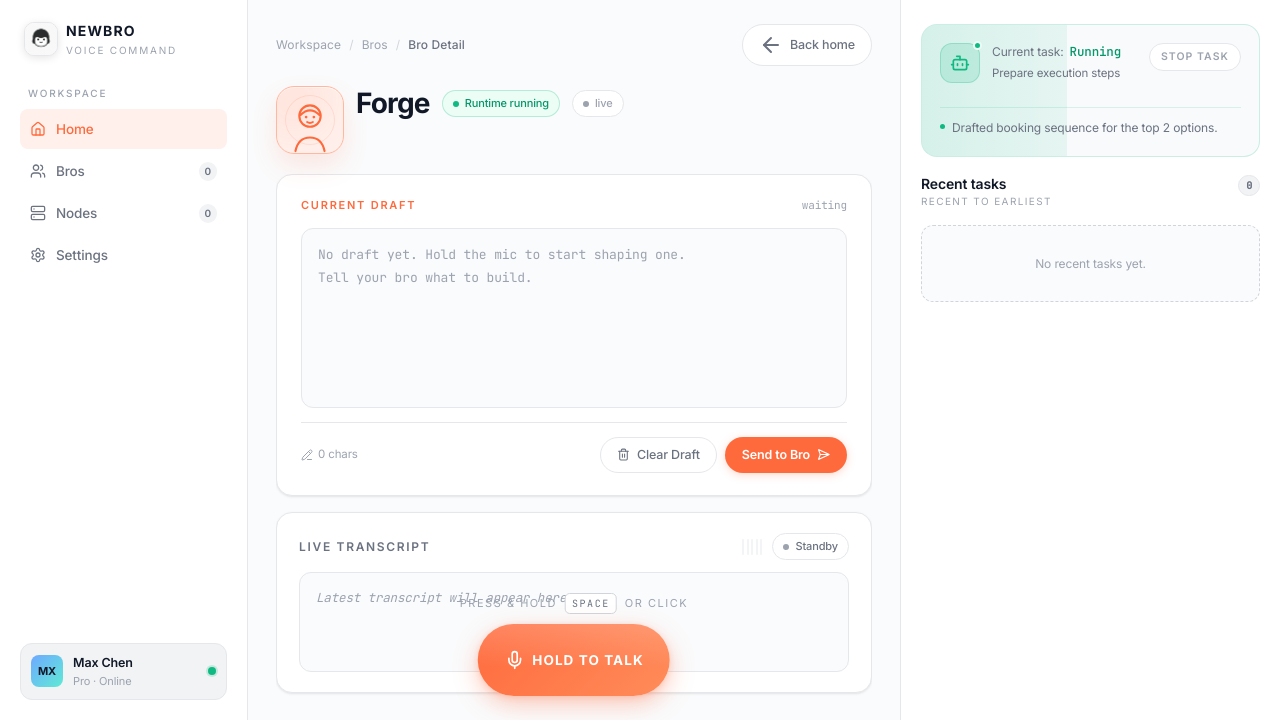
it: Newbro voice shell › publishes the Bro detail mic before muting it
This screenshot has width=1280, height=720.
Press the mouse on the button "Hold to Talk" at (574, 660), box [478,624,670,696]
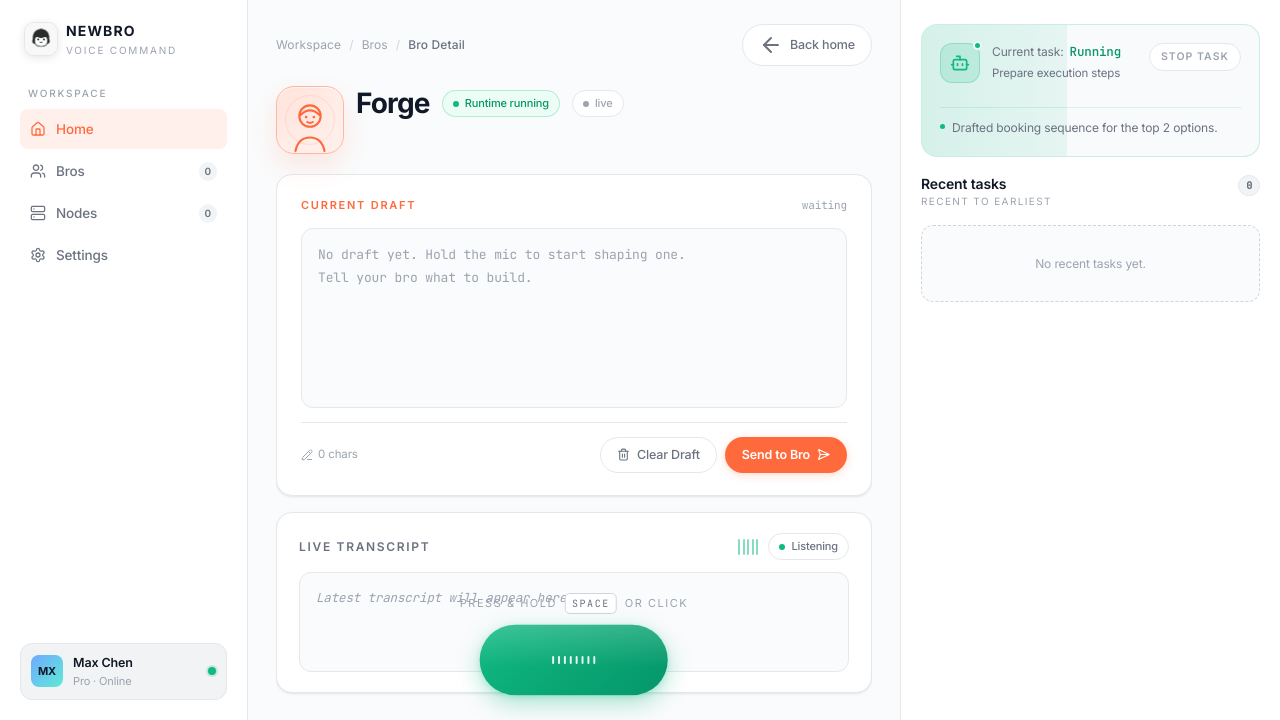
Now the button named "Release to finish" is shown
Leave the button named "Release to finish", box [480,625,668,695]
Wait 500 ms
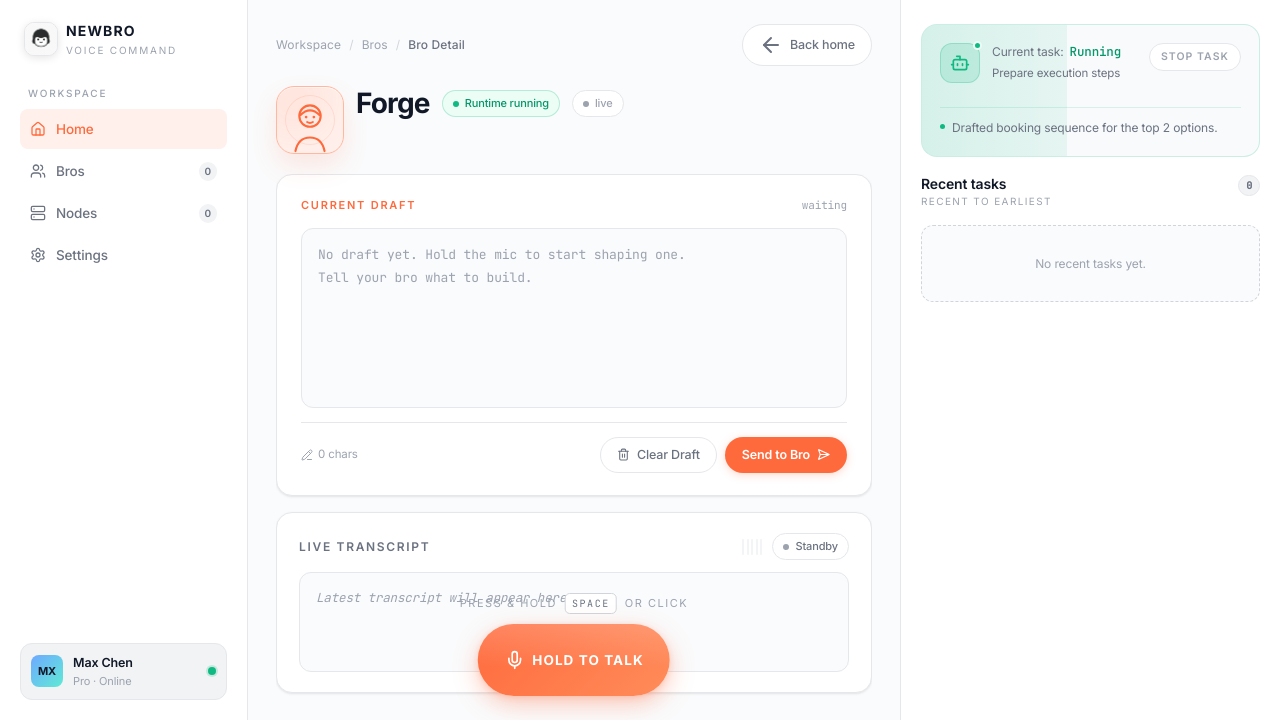
Now the button "Hold to Talk" is shown, box [478,624,670,696]
